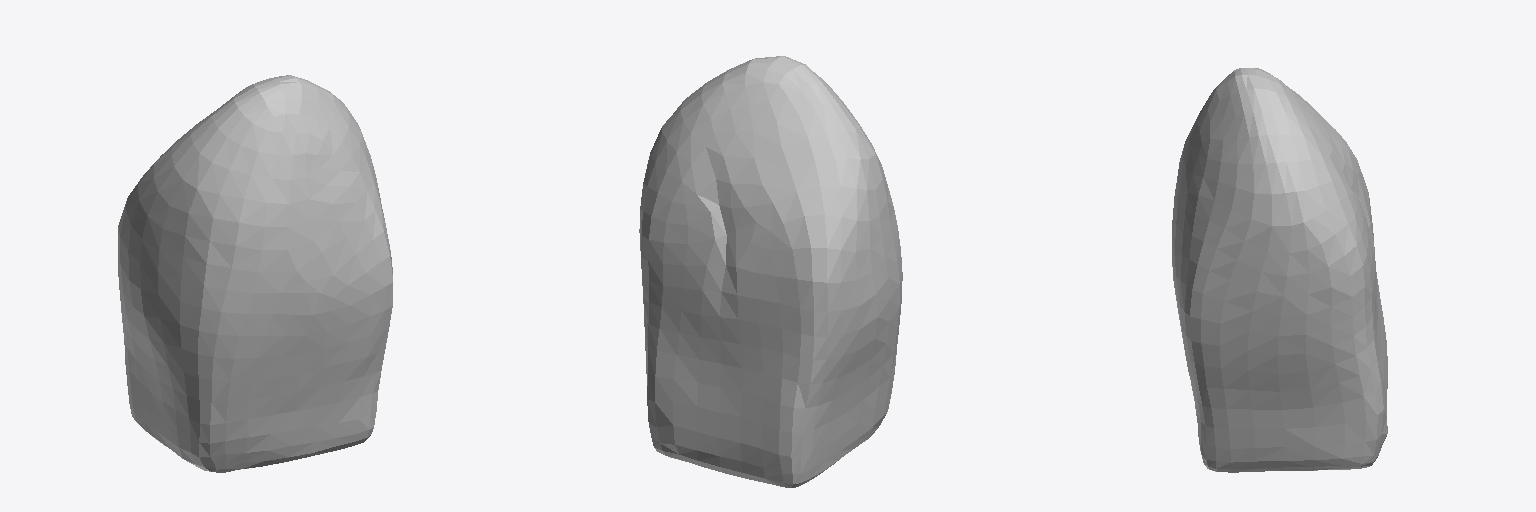
Rendered from runestone_1.obj.
3 views of the same model, side by side, from view 1: azimuth 30°, elevation 25°; view 2: azimuth 150°, elevation 25°; view 3: azimuth 270°, elevation 25° (orthographic).
Visible parts, largest first — view 1: Rock1_lp2; view 2: Rock1_lp2; view 3: Rock1_lp2.
Boxes of the visible parts, box(x1,y1,x2,y2) form: Rock1_lp2: box(118, 75, 392, 472); Rock1_lp2: box(639, 56, 902, 487); Rock1_lp2: box(1172, 68, 1387, 472).
Bounding box in the file's own units: 2.71 × 4.29 × 2.28.